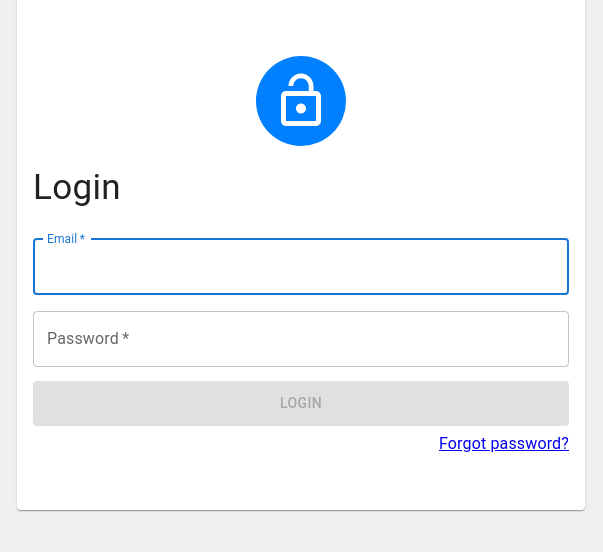
<Login /> › should clear the password error as soon as a password is provided
Press Tab
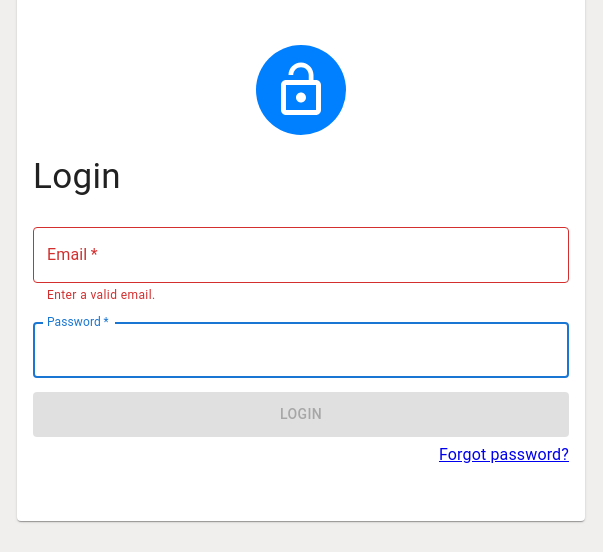
Expected: the password field with test id "password" is empty, [33,322,569,378]
Press Tab
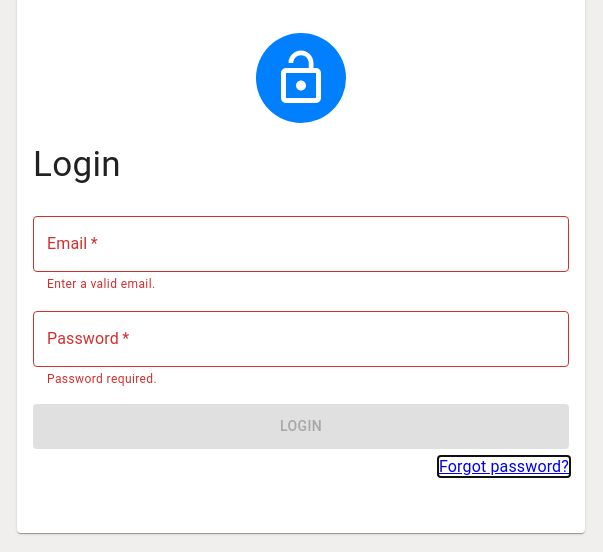
Now the text "Password required." is shown, box [47,372,157,386]
Click the password field with test id "password" at {"x": 301, "y": 339}, box [33,311,569,367]
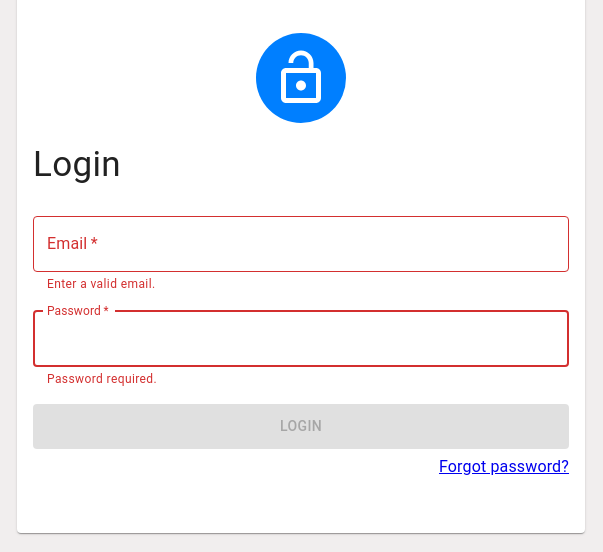
Type "TestablePassablePassword1!" into the password field with test id "password" at {"x": 301, "y": 339}, box [33,311,569,367]
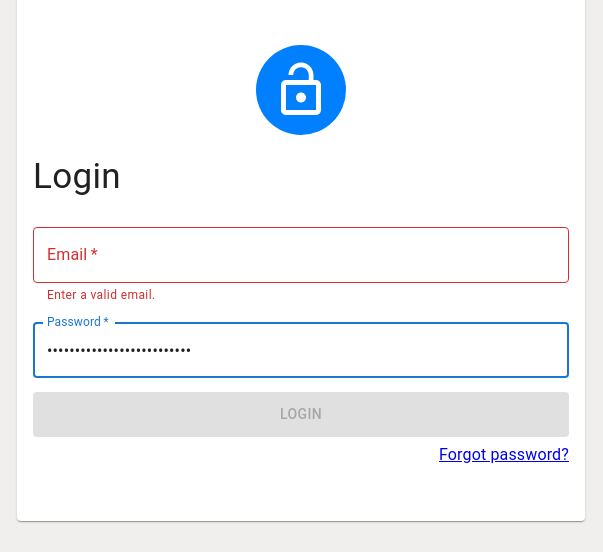
Now the text "Password required." is gone
